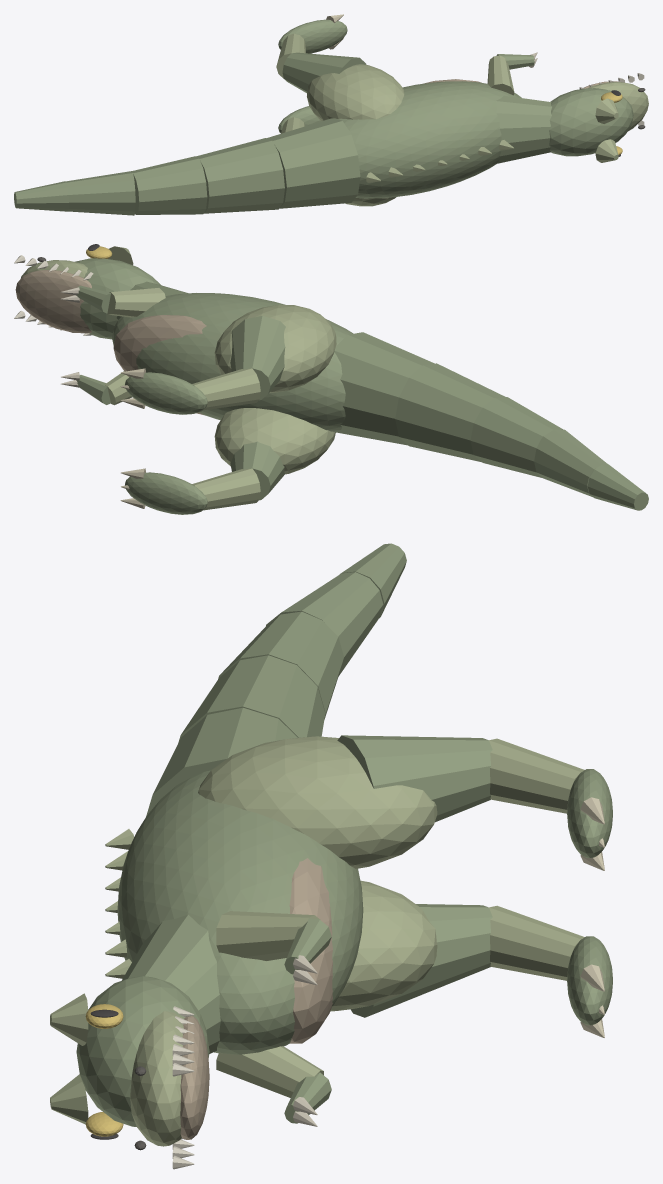
Rendered from Allosaurus.glb.
3 views of the same model, one above another, from view 1: azimuth 30°, elevation 25°; view 2: azimuth 150°, elevation 25°; view 3: azimuth 270°, elevation 25° (orthographic). The views are drawn at different scales.
Visible parts, largest first — view 1: Allosaurus_000, Allosaurus_007, Allosaurus_008, Allosaurus_033, Allosaurus_003, Allosaurus_009, Allosaurus_002, Allosaurus_010, Allosaurus_034, Allosaurus_036, Allosaurus_011, Allosaurus_004 (+7 smaller); view 2: Allosaurus_000, Allosaurus_008, Allosaurus_007, Allosaurus_012, Allosaurus_033, Allosaurus_009, Allosaurus_005, Allosaurus_034, Allosaurus_010, Allosaurus_003, Allosaurus_001, Allosaurus_015 (+10 smaller); view 3: Allosaurus_000, Allosaurus_033, Allosaurus_034, Allosaurus_012, Allosaurus_003, Allosaurus_008, Allosaurus_002, Allosaurus_007, Allosaurus_004, Allosaurus_013, Allosaurus_009, Allosaurus_035 (+13 smaller).
Part boxes in pixels (bbox=[...]): Allosaurus_000: bbox=[323, 81, 521, 198]; Allosaurus_007: bbox=[267, 118, 360, 208]; Allosaurus_008: bbox=[196, 138, 284, 213]; Allosaurus_033: bbox=[307, 64, 404, 121]; Allosaurus_003: bbox=[549, 88, 633, 156]; Allosaurus_009: bbox=[132, 156, 207, 214]; Allosaurus_002: bbox=[496, 95, 551, 163]; Allosaurus_010: bbox=[66, 171, 135, 215]; Allosaurus_034: bbox=[282, 52, 366, 92]; Allosaurus_036: bbox=[278, 19, 347, 53]; Allosaurus_011: bbox=[14, 181, 68, 211]; Allosaurus_004: bbox=[588, 82, 648, 131]; Allosaurus_000: bbox=[112, 293, 353, 431]; Allosaurus_008: bbox=[395, 363, 505, 461]; Allosaurus_007: bbox=[334, 332, 434, 445]; Allosaurus_012: bbox=[214, 408, 335, 474]; Allosaurus_033: bbox=[214, 304, 336, 392]; Allosaurus_009: bbox=[470, 397, 562, 477]; Allosaurus_005: bbox=[15, 270, 91, 333]; Allosaurus_034: bbox=[230, 316, 285, 400]; Allosaurus_010: bbox=[534, 429, 607, 497]; Allosaurus_003: bbox=[74, 258, 160, 339]; Allosaurus_001: bbox=[113, 315, 206, 414]; Allosaurus_015: bbox=[125, 472, 207, 514]; Allosaurus_000: bbox=[117, 770, 363, 1054]; Allosaurus_033: bbox=[198, 736, 437, 868]; Allosaurus_034: bbox=[337, 735, 492, 822]; Allosaurus_012: bbox=[330, 880, 437, 1011]; Allosaurus_003: bbox=[76, 976, 209, 1126]; Allosaurus_008: bbox=[178, 655, 325, 742]; Allosaurus_002: bbox=[122, 914, 220, 1053]; Allosaurus_007: bbox=[146, 707, 297, 816]; Allosaurus_004: bbox=[130, 1011, 183, 1146]; Allosaurus_013: bbox=[350, 904, 492, 1017]; Allosaurus_009: bbox=[218, 611, 343, 719]; Allosaurus_035: bbox=[489, 738, 584, 813].
Size of the model in its own units: 8.6 by 1.95 by 3.63.
